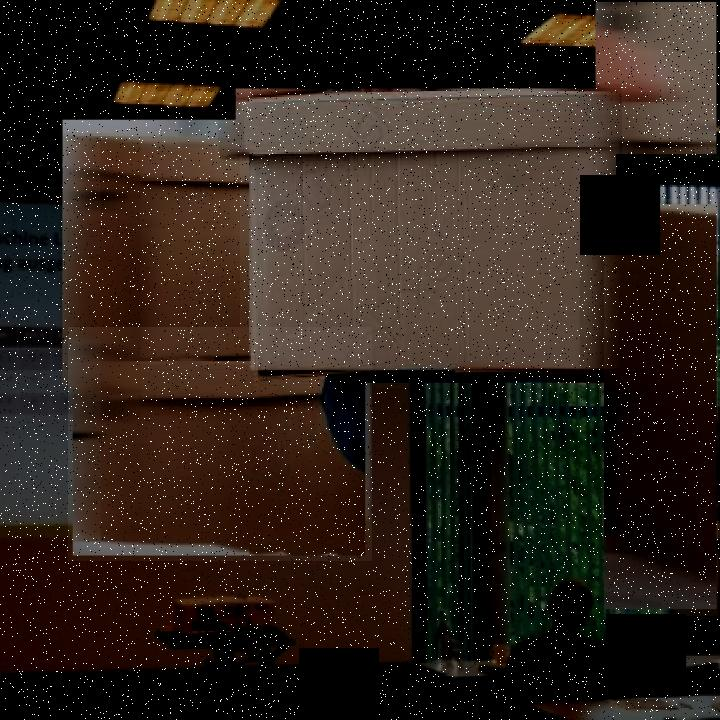box: (231, 84, 622, 388), (68, 327, 372, 561), (61, 116, 241, 391), (604, 199, 718, 616), (595, 0, 719, 158)
